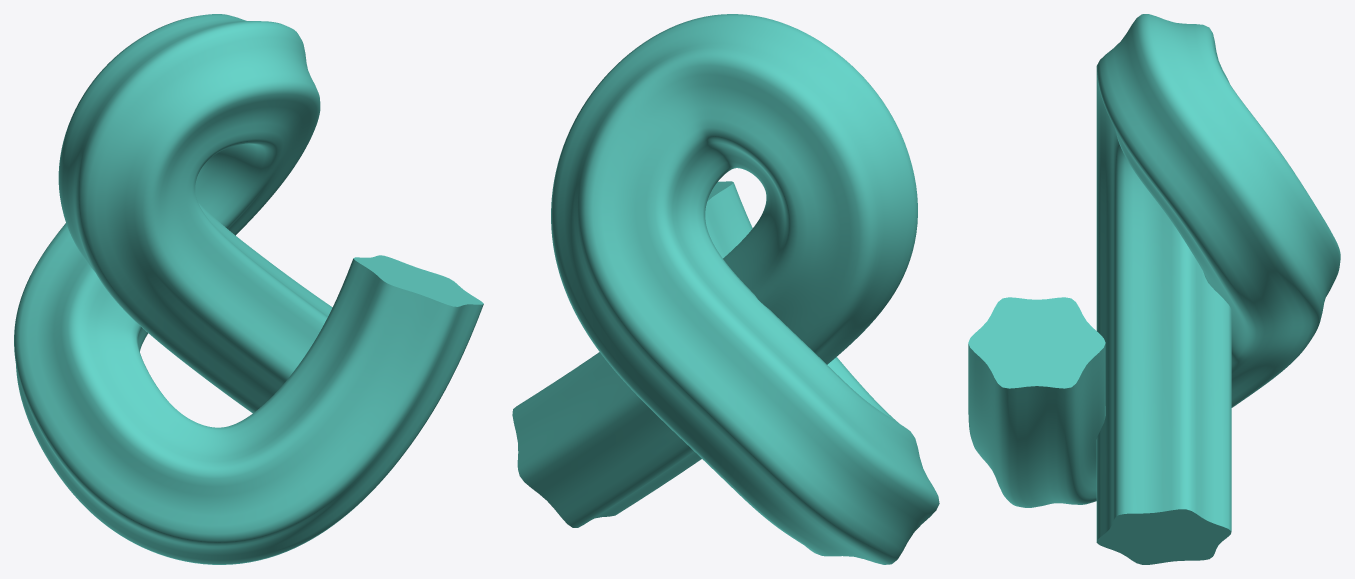
Rendered from and.glb.
The picture shows the model from 3 angles, left to right: view 1: azimuth 30°, elevation 25°; view 2: azimuth 150°, elevation 25°; view 3: azimuth 270°, elevation 25°; orthographic projection. The views are drawn at different scales.
Parts seen in each view (by area): view 1: And; view 2: And; view 3: And.
Boxes of the visible parts, <box> form: And: <box>14,14,483,564</box>; And: <box>512,14,939,564</box>; And: <box>968,14,1340,564</box>.
Size of the model in its own units: 1.72 by 2.24 by 1.55.
